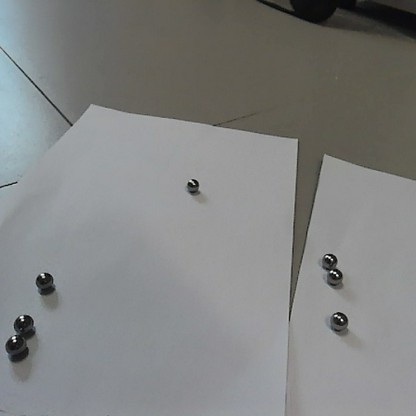ironball: (11, 311, 37, 338), (3, 333, 27, 359), (34, 269, 56, 292), (329, 309, 349, 333), (320, 251, 339, 272), (185, 177, 201, 194), (326, 266, 341, 284)
